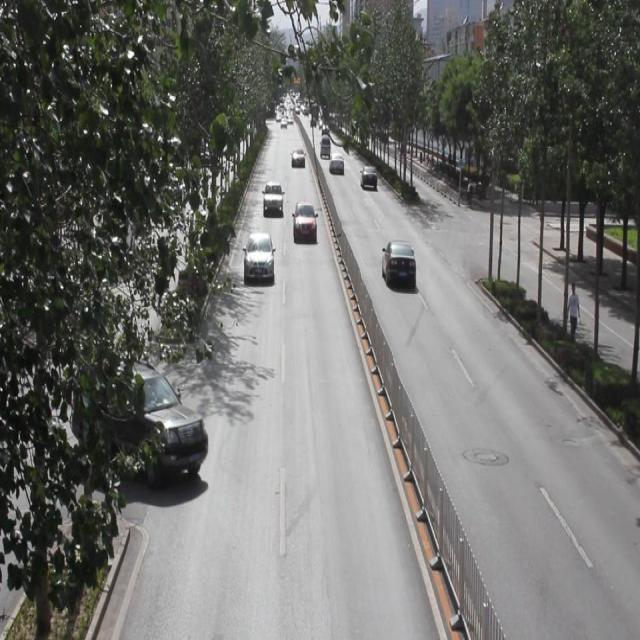car: (65, 358, 207, 487), (382, 239, 416, 293), (244, 230, 274, 284), (291, 201, 317, 243), (262, 180, 285, 216), (360, 163, 378, 191), (328, 152, 345, 175), (290, 147, 305, 171)
truck: (319, 135, 330, 160)
